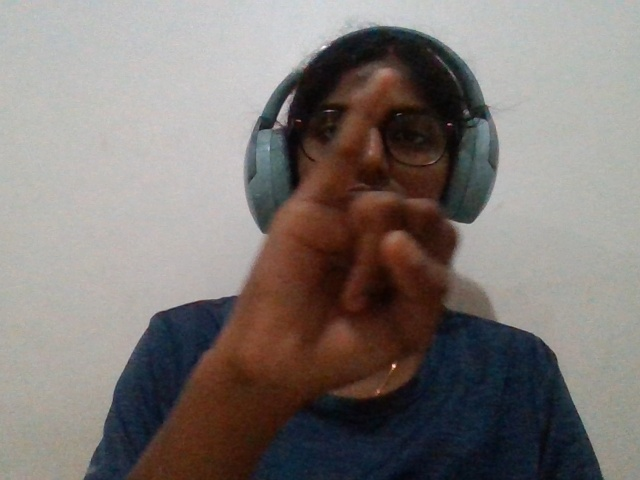I: (209, 61, 463, 411)
